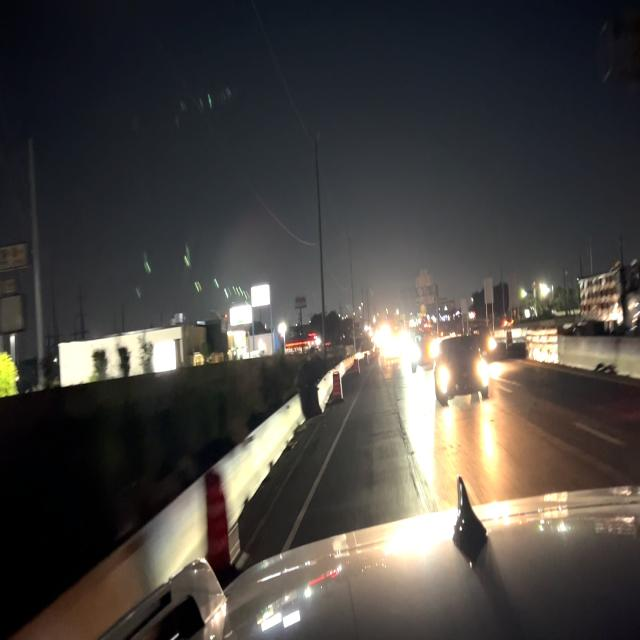back-of-sign: (413, 263, 438, 310)
